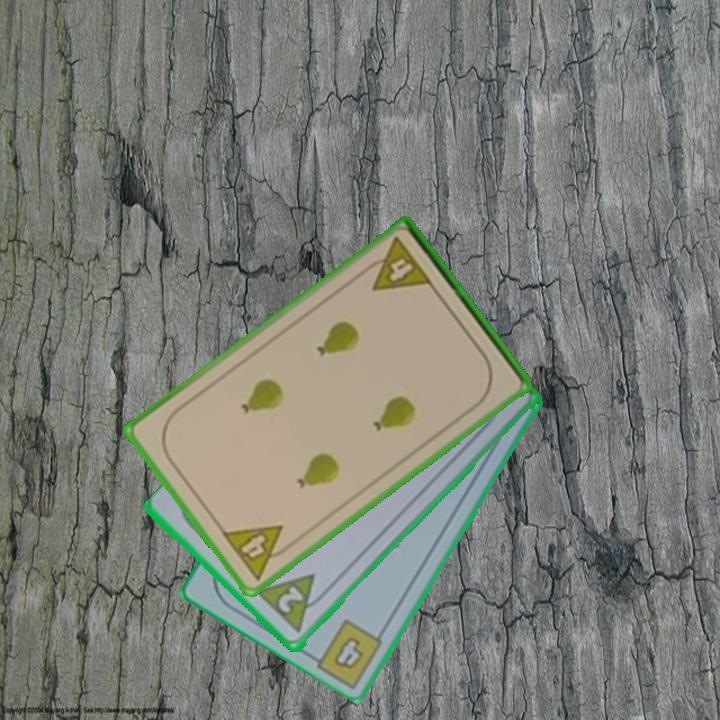2p: (274, 583, 307, 617)
4b: (330, 633, 367, 673)
4p: (218, 521, 298, 583), (358, 234, 436, 295)
